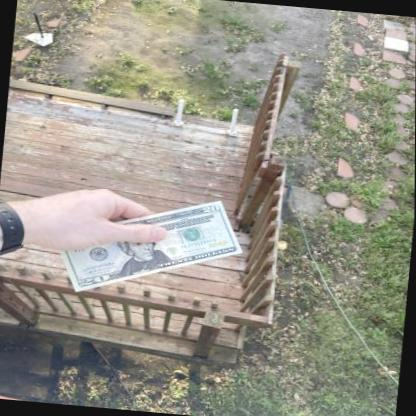dollar_front: (55, 201, 243, 292)
